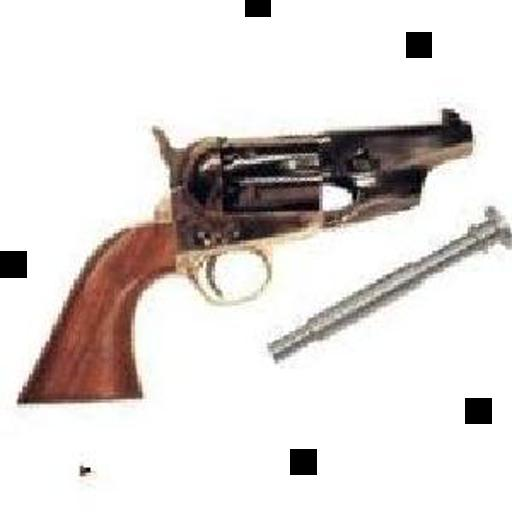Handgun: (12, 104, 473, 403)
